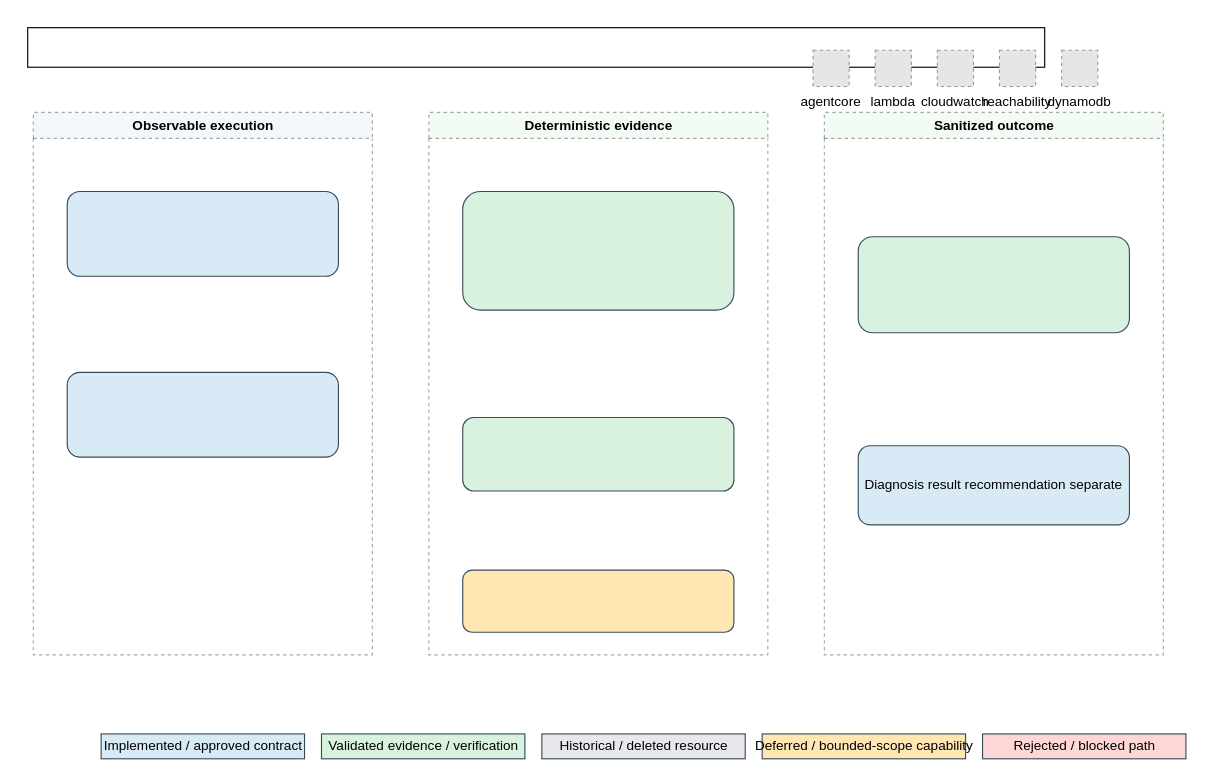
The diagram is 1206 pixels wide and 779 high, and some of its shapes have lost their labels. Grey dashed boxes stand in for pictures. Each missing label, with the centre of its shape:
AWS configuration facts: point (598, 453)
Correlation + request ID allowlist-v1 schema: point (202, 414)
Deferred: deployed OTel / AgentCore Observability: point (598, 600)
Observability and deterministic evidence flow: point (536, 47)
Reachability Analyzer CloudWatch metrics optional Flow Logs: point (598, 250)
Runtime / Gateway / tool execution events: point (202, 233)
Sanitized evidence store no secrets or hidden reasoning: point (993, 284)
